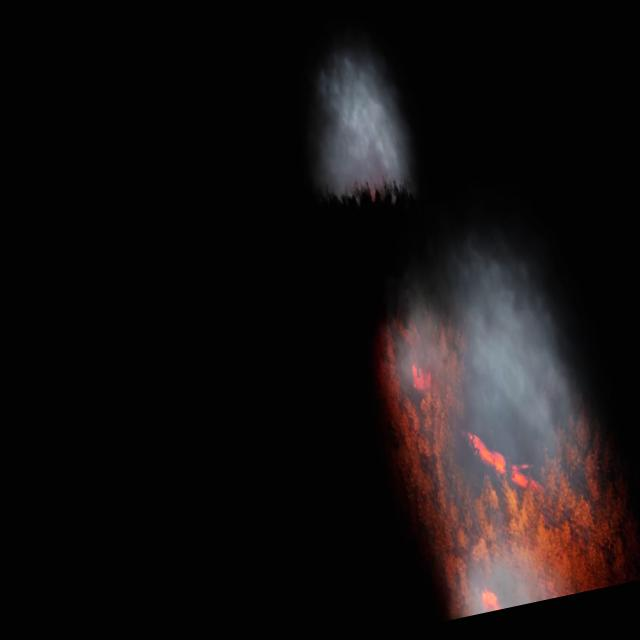fire: (368, 279, 640, 622)
smoke: (368, 216, 623, 619), (281, 20, 428, 214)
